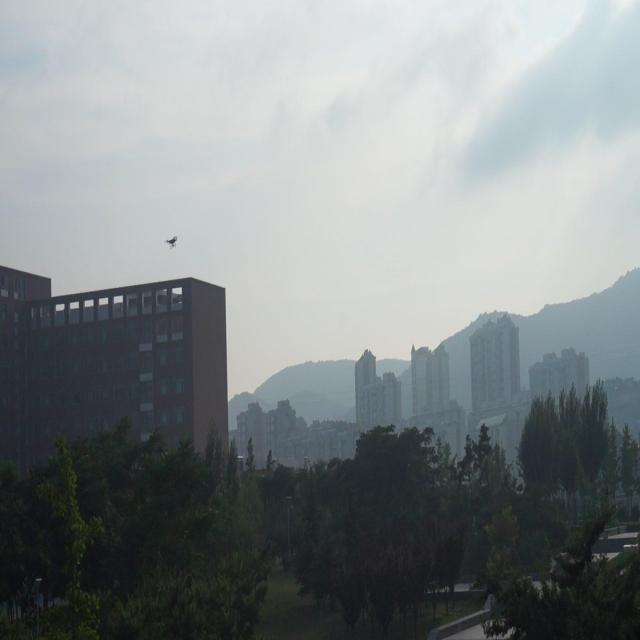drone: (162, 233, 182, 250)
